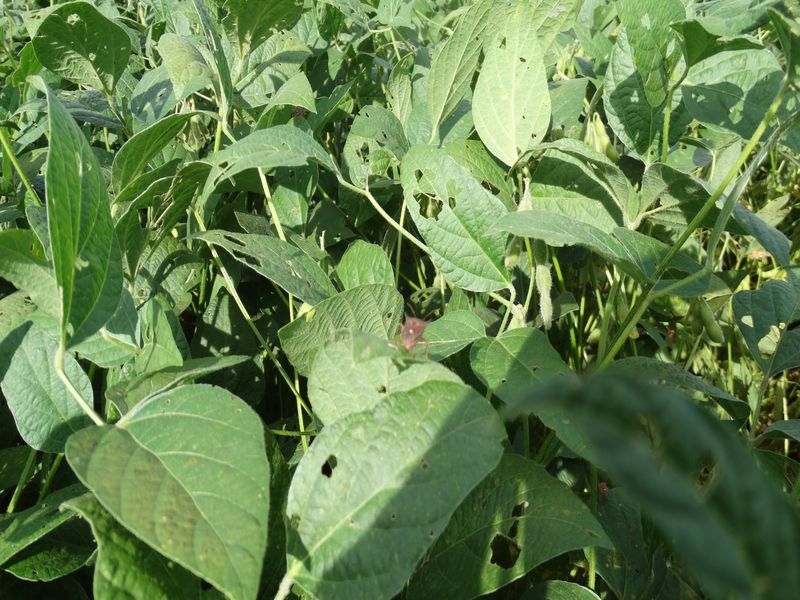Euschistus_heros_adulto: (388, 309, 435, 363), (592, 477, 615, 501)
